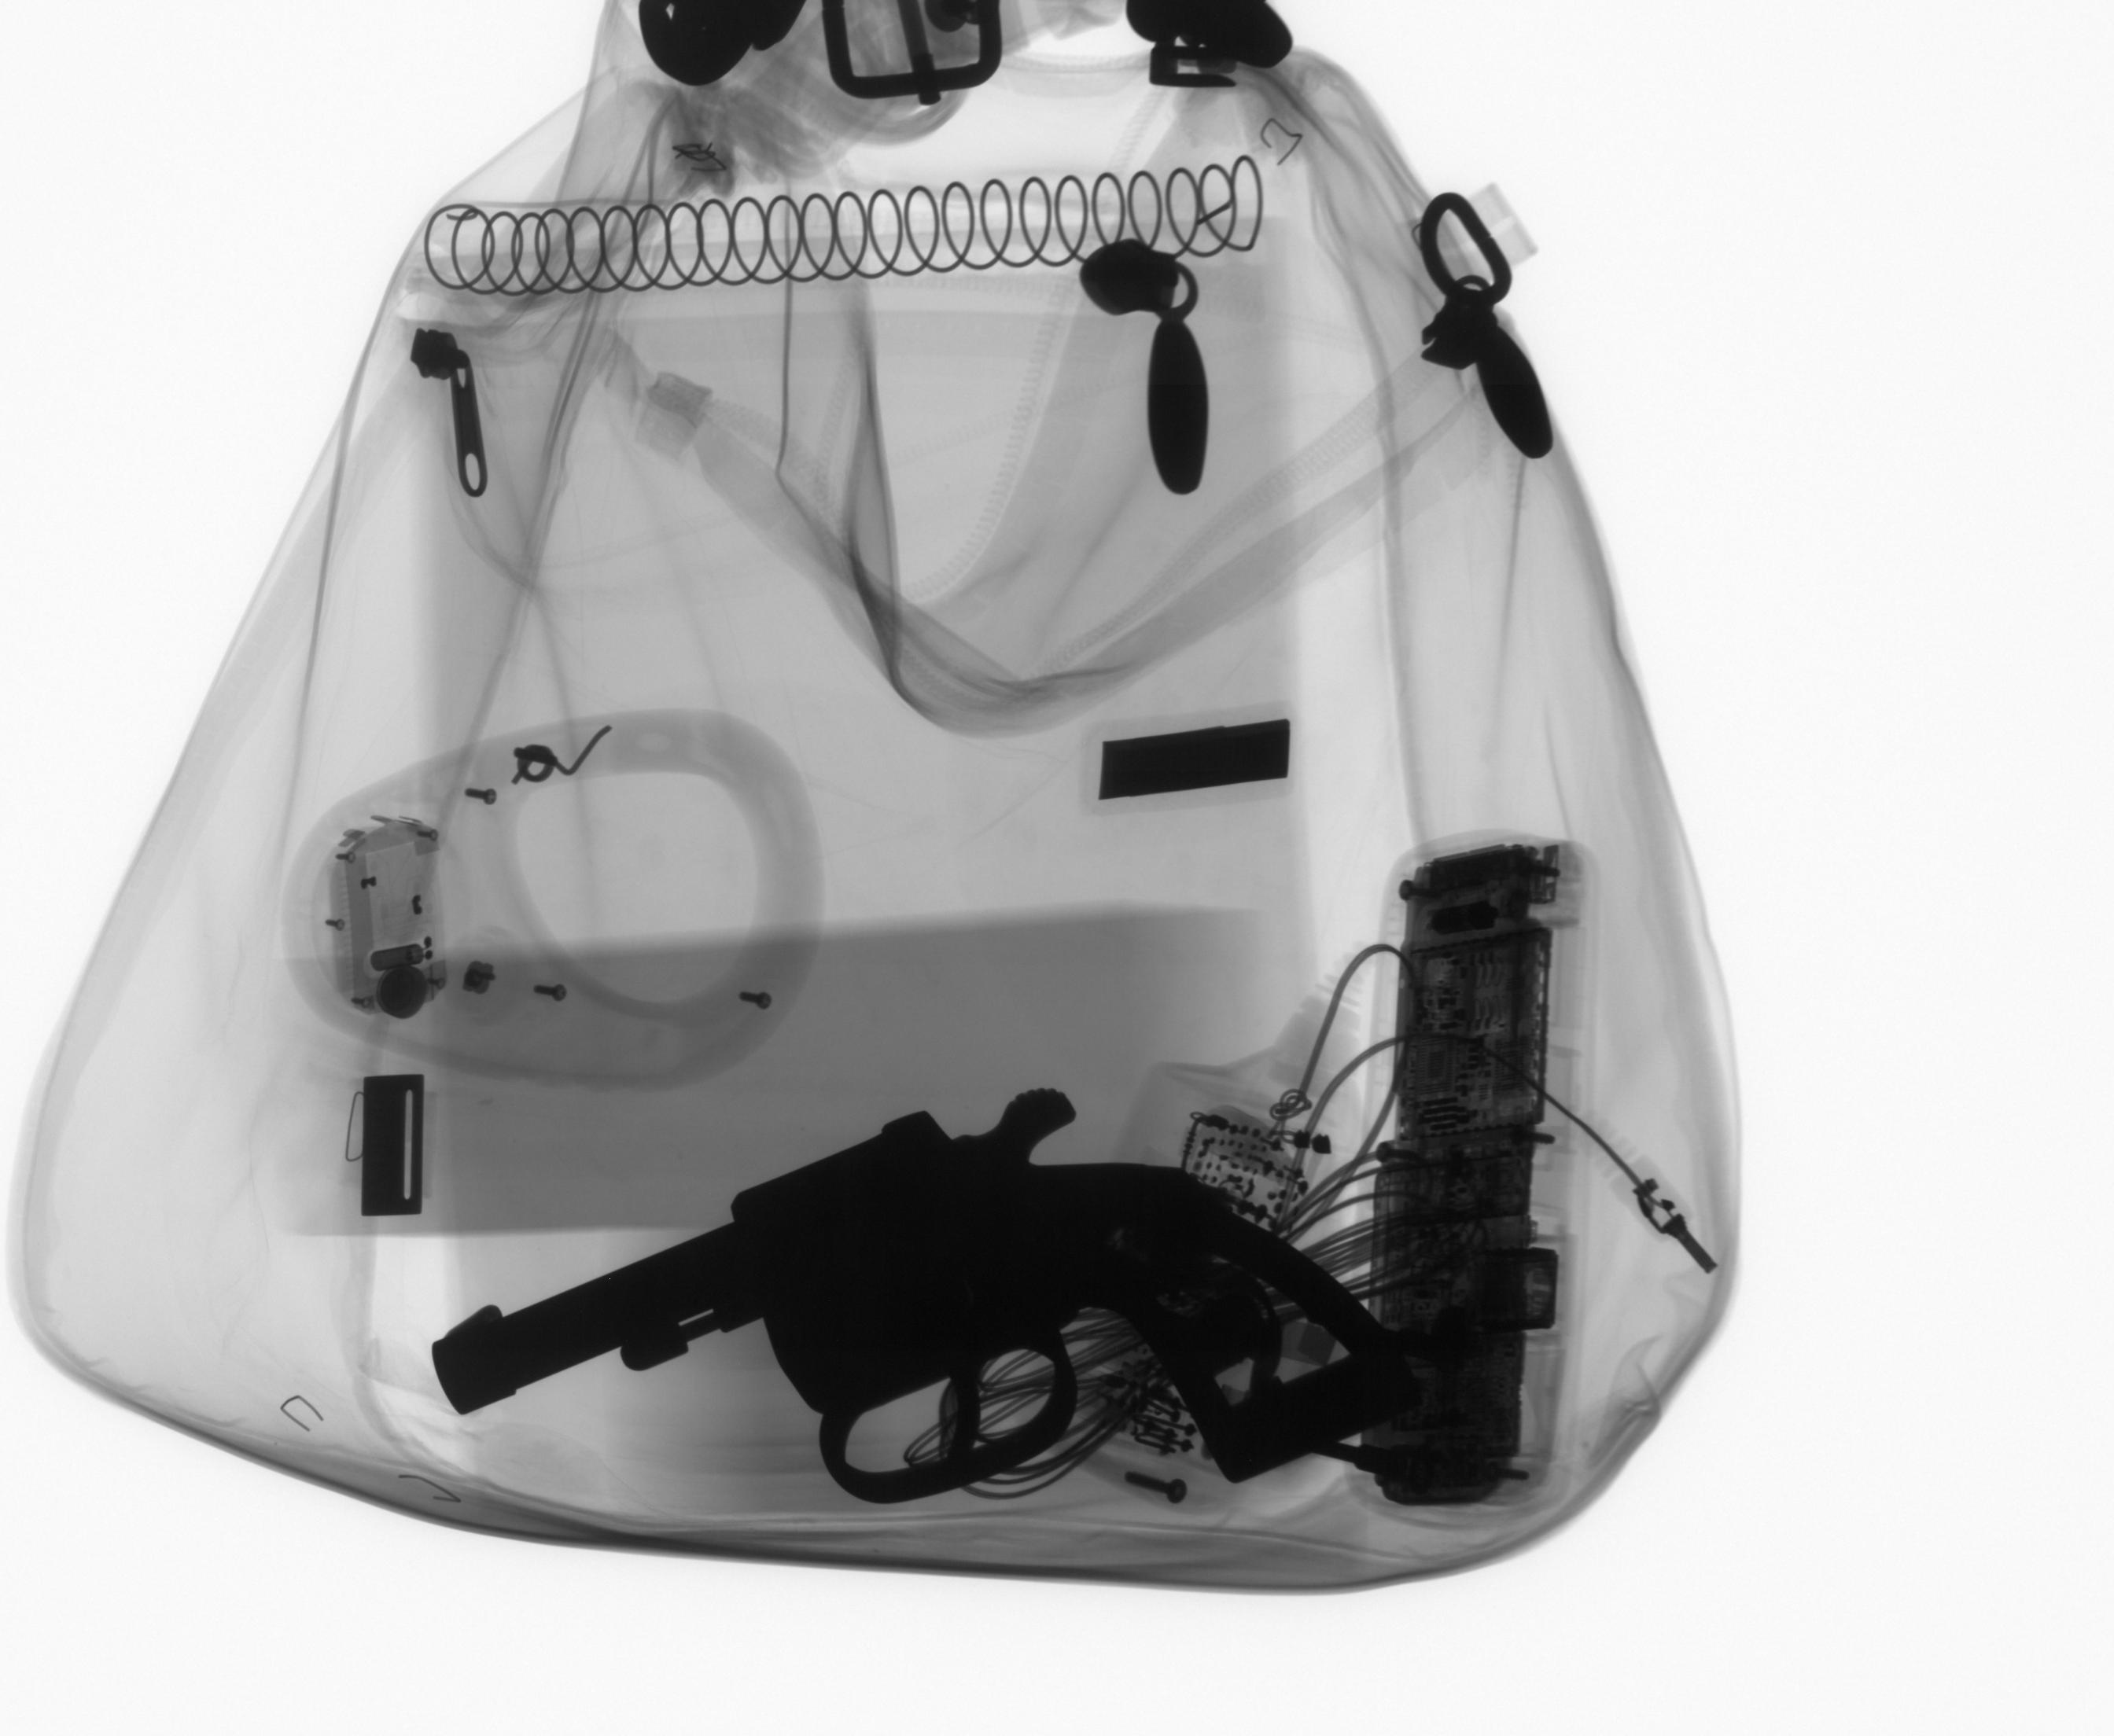Handgun: (425, 1079, 1419, 1503)
